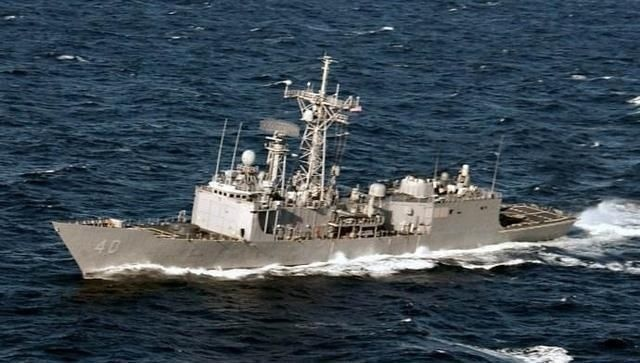warship: (49, 54, 580, 283)
